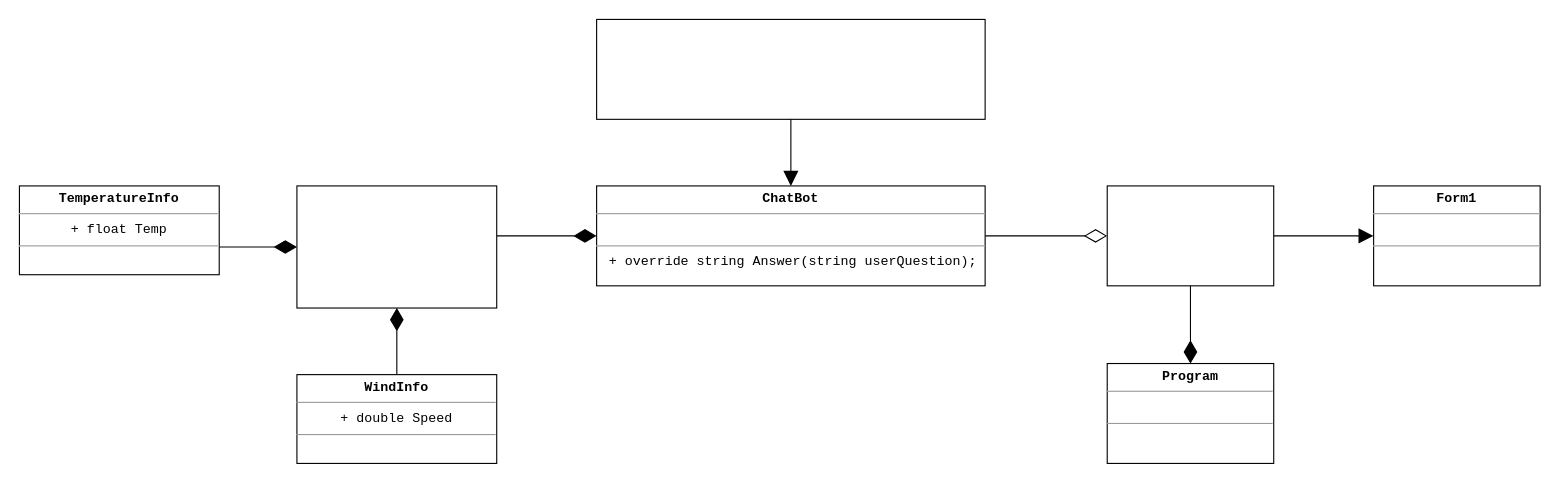
This 1560x483 diagram has some shape labels left out. The centre of each missing label's shape, as x and y in pixels:
"AbstractChatBot + abstract string Answer(string userQuestion);" belongs at (790,68).
"LoginForm" belongs at (1190,235).
"WeatherResponse + TempInfo Main + string Name + WindInfo Wind" belongs at (396,246).
